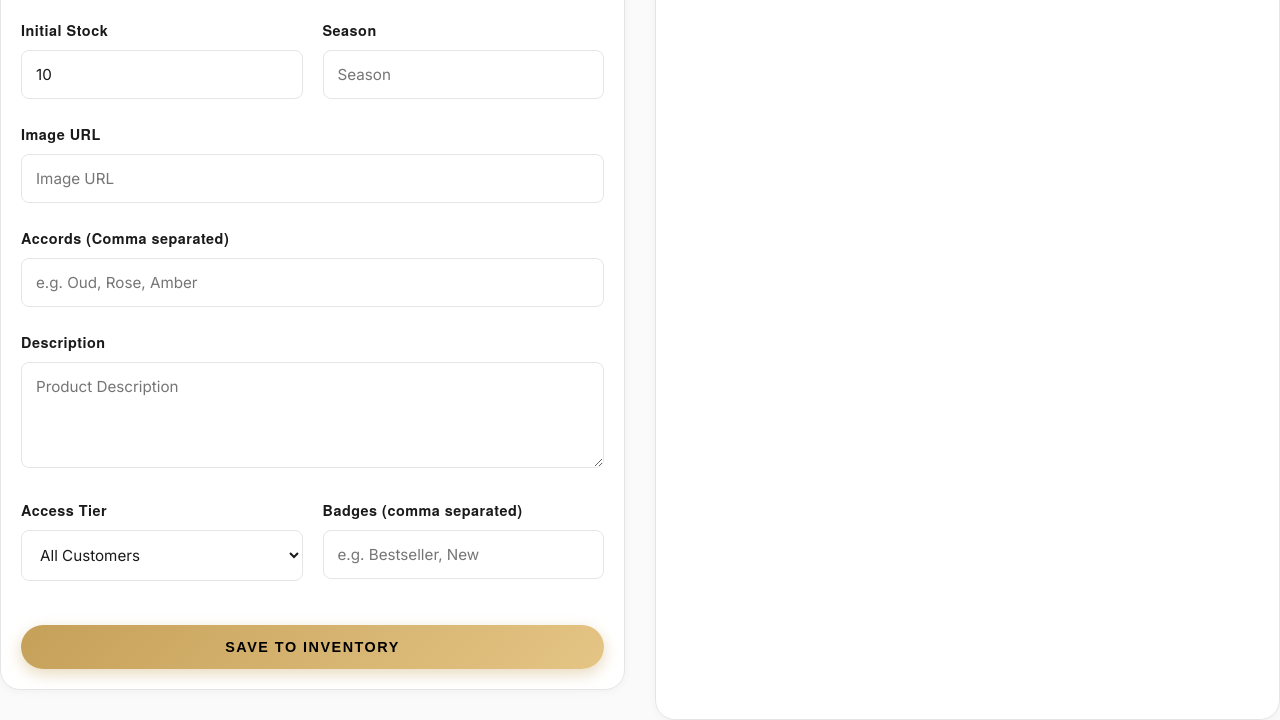
InventoryTab › validates required fields on submit
(page scrolled)
Click the button "Save to Inventory". click: (312, 647)
box: x1=21 y1=625 x2=604 y2=669
(page scrolled)
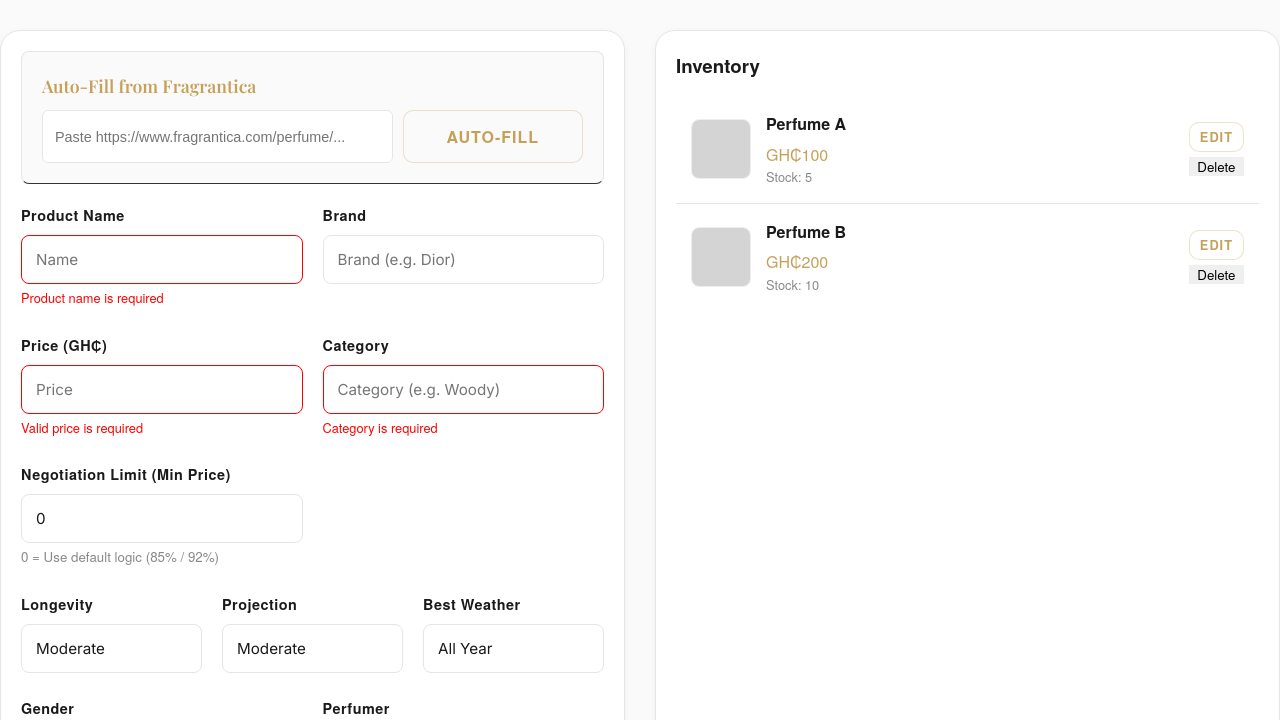
Now the text "Product name is required" is shown, box x1=21 y1=288 x2=164 y2=307
